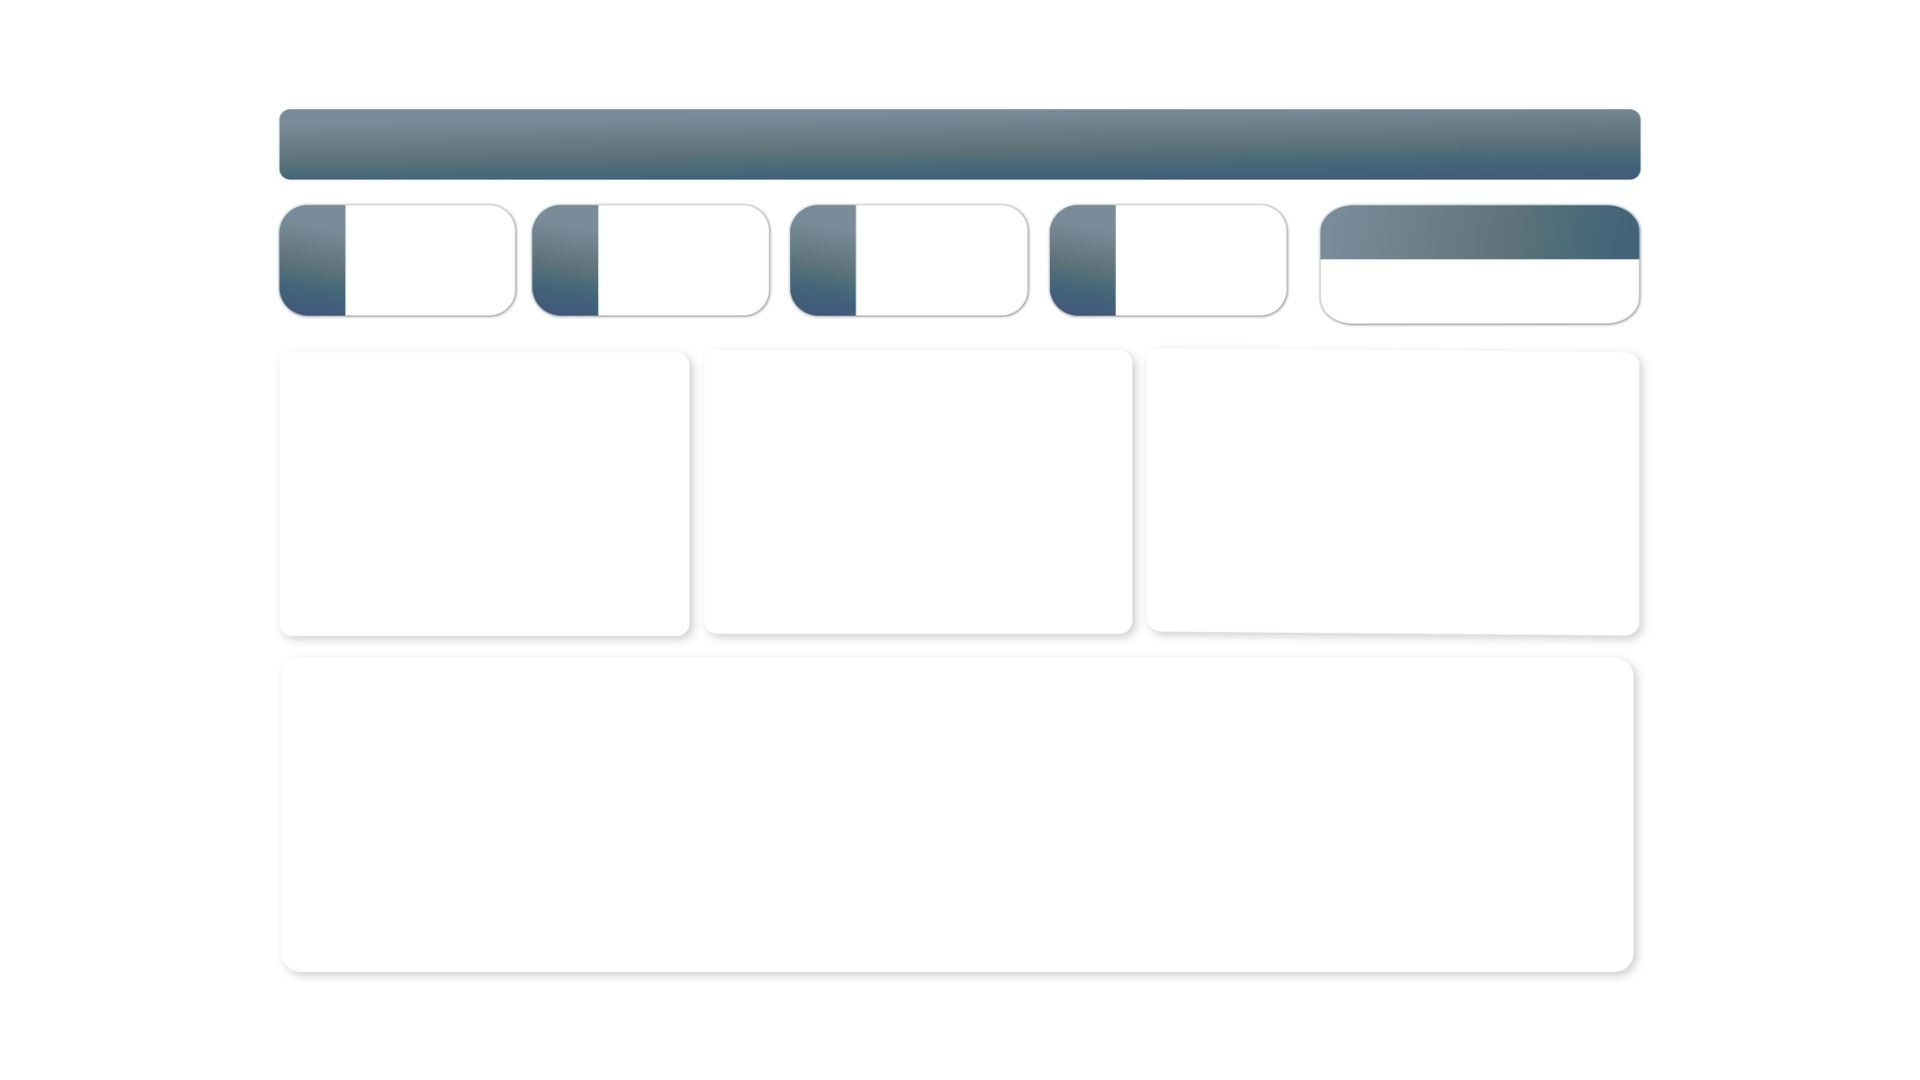

Layout of this report page (visuals, bound fields, positions):
{"tool":"powerbi","page":{"name":"Page 1","canvas":[1280,720],"ordinal":0},"visuals":[{"type":"image","box":[192.4,69.4,164.7,54.7],"z":0},{"type":"textbox","box":[357.3,79.3,493.3,34],"z":1000},{"type":"card","fields":{"Values":["Min(Sheet1 (2).Admit_Date)"]},"box":[229.3,153.3,109.3,75.3],"z":2000},{"type":"slicer","fields":{"Values":["Sheet1 (2).Patient_ID"]},"box":[859.2,69.2,213.3,55.8],"z":3000},{"type":"textbox","box":[241.3,145.3,97.3,32],"z":4000},{"type":"card","fields":{"Values":["Min(Sheet1 (2).Discharge_Date)"]},"box":[396.7,153.3,109.3,75.3],"z":5000},{"type":"textbox","box":[399.3,145.2,113.8,32.8],"z":6000},{"type":"card","fields":{"Values":["Min(Sheet1 (2).Followup Date)"]},"box":[570.8,152.9,109.2,75.4],"z":7000},{"type":"textbox","box":[571,145,119,29],"z":8000},{"type":"textbox","box":[743.5,145.3,115.9,28.8],"z":8001},{"type":"card","fields":{"Values":["Sum(Sheet1 (2).Billing Amount)"]},"box":[743.5,152.9,109.4,75.3],"z":8002},{"type":"slicer","fields":{"Values":["Sheet1 (2).Admit_Date"]},"box":[873,170,229,42],"z":8003},{"type":"image","box":[185.8,151.7,43.3,45],"z":8004},{"type":"image","box":[355,150.8,41.7,45],"z":8005},{"type":"image","box":[524.2,149.2,51.7,41.7],"z":8006},{"type":"image","box":[699.2,145.8,44.2,48.3],"z":8007},{"type":"columnChart","title":"Bed_Occupancy ","fields":{"Category":["Sheet1 (2).Bed_Occupancy"],"Y":["CountNonNull(Sheet1 (2).Bed_Occupancy)"]},"box":[162,241,290,237],"z":8008},{"type":"donutChart","title":"Feedback Volume By   Doctor ","fields":{"Category":["Sheet1 (2).Doctor"],"Y":["CountNonNull(Sheet1 (2).Doctor)"]},"box":[458.3,240.8,295,236.7],"z":8009},{"type":"funnel","title":"Diagnosis Type","fields":{"Category":["Sheet1 (2).Diagnosis"],"Y":["CountNonNull(Sheet1 (2).Diagnosis)"]},"box":[774.2,240.8,327.5,221.7],"z":8010},{"type":"lineChart","title":" Billing Amount Vs Health Insurance Amount by Year","fields":{"Y":["Sum(Sheet1 (2).Billing Amount)","Sum(Sheet1 (2).Health Insurance Amount)"],"Category":["Sheet1 (2).Admit_Date.Variation.Date Hierarchy.Year"]},"box":[181,498,898,196],"z":8011},{"type":"textbox","box":[945,144,109,29],"z":8012}]}

Visuals, with their boxes in screenshot pixels (x1, y1, x2, y2), scaled from the page's 1280x720 canvas onto the 1920x1080 screenshot:
image: Rect(289, 104, 536, 186)
textbox: Rect(536, 119, 1276, 170)
card - Min(Sheet1 (2).Admit_Date): Rect(344, 230, 508, 343)
slicer - Sheet1 (2).Patient_ID: Rect(1289, 104, 1609, 188)
textbox: Rect(362, 218, 508, 266)
card - Min(Sheet1 (2).Discharge_Date): Rect(595, 230, 759, 343)
textbox: Rect(599, 218, 770, 267)
card - Min(Sheet1 (2).Followup Date): Rect(856, 229, 1020, 342)
textbox: Rect(856, 218, 1035, 261)
textbox: Rect(1115, 218, 1289, 261)
card - Sum(Sheet1 (2).Billing Amount): Rect(1115, 229, 1279, 342)
slicer - Sheet1 (2).Admit_Date: Rect(1310, 255, 1653, 318)
image: Rect(279, 228, 344, 295)
image: Rect(532, 226, 595, 294)
image: Rect(786, 224, 864, 286)
image: Rect(1049, 219, 1115, 291)
"Bed_Occupancy " columnChart: Rect(243, 362, 678, 717)
"Feedback Volume By   Doctor " donutChart: Rect(687, 361, 1130, 716)
"Diagnosis Type" funnel: Rect(1161, 361, 1653, 694)
" Billing Amount Vs Health Insurance Amount by Year" lineChart: Rect(272, 747, 1618, 1041)
textbox: Rect(1418, 216, 1581, 260)
